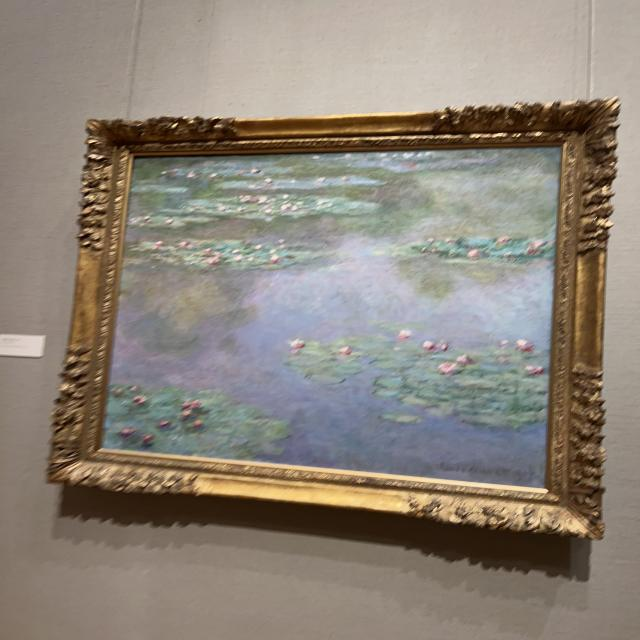lilies: (103, 148, 562, 487)
